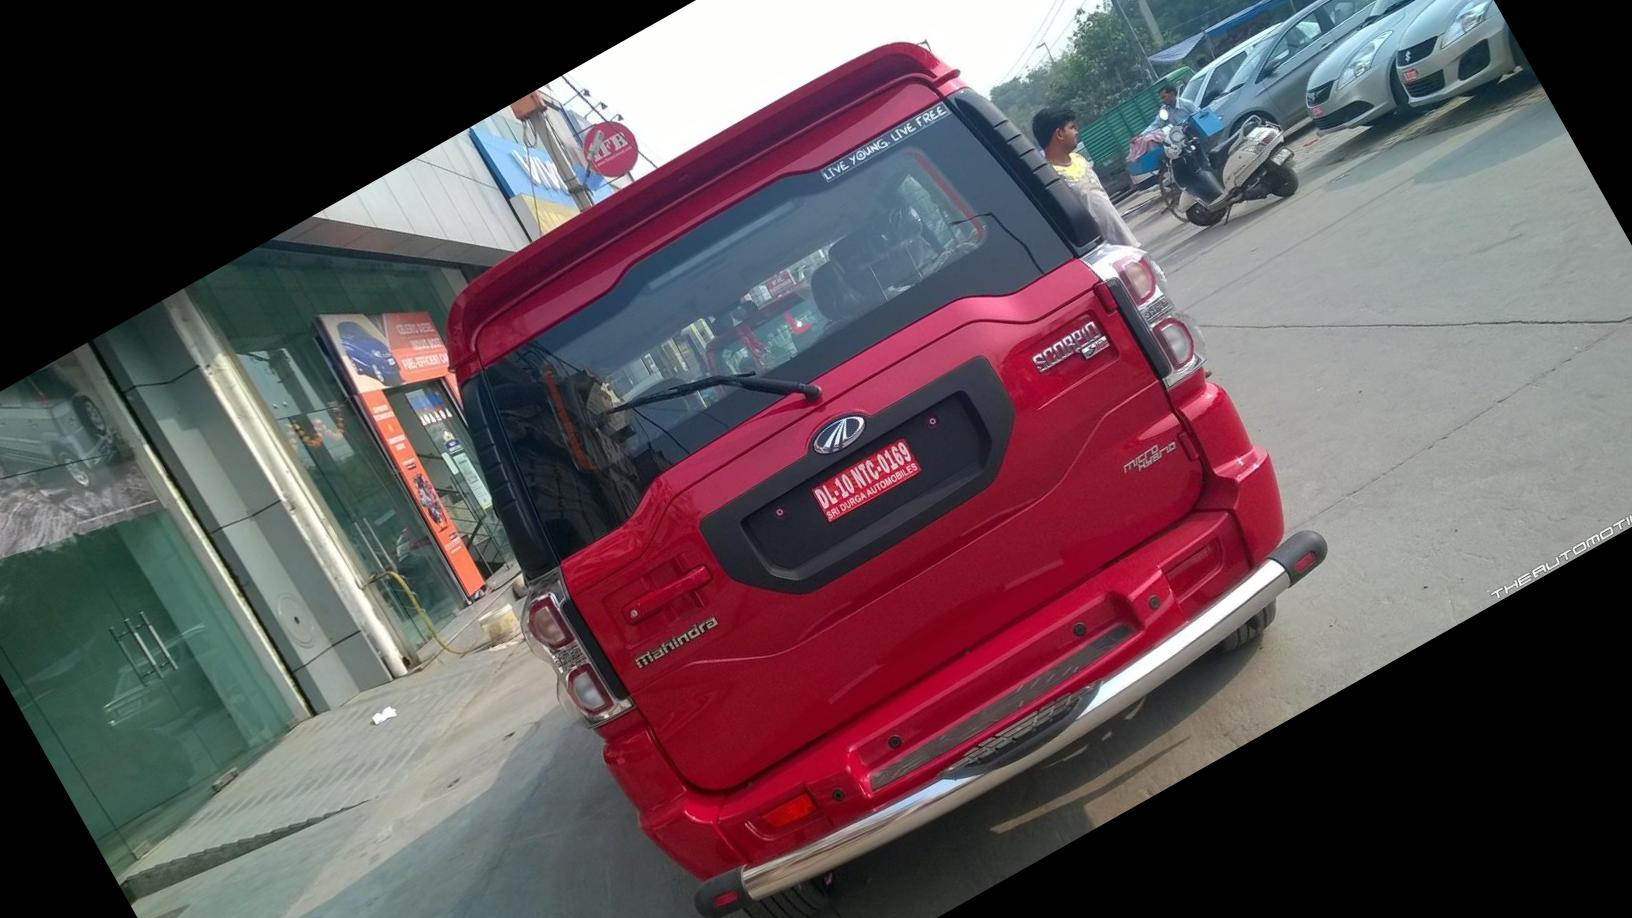plate: (809, 434, 931, 526)
